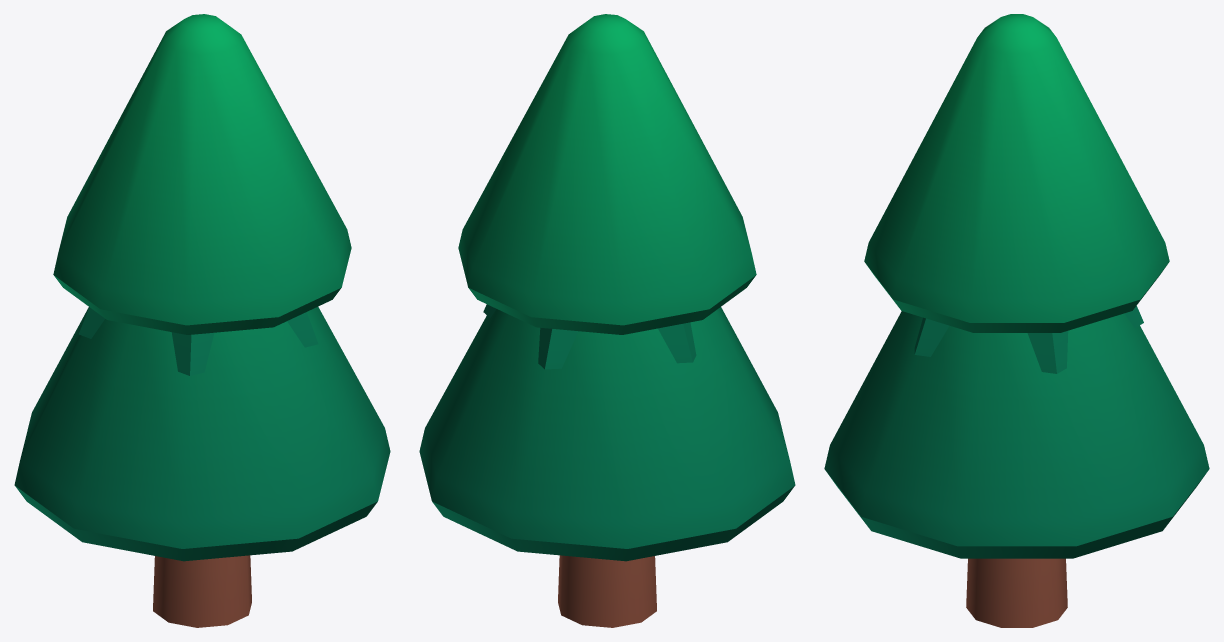
File: nature-aE6IPUeL.glb
3 renders of one model, left to right at view 1: azimuth 30°, elevation 25°; view 2: azimuth 150°, elevation 25°; view 3: azimuth 270°, elevation 25°, orthographic.
Visible parts, largest first — view 1: tree_single_B, tree_single_A; view 2: tree_single_B, tree_single_A; view 3: tree_single_B, tree_single_A.
Part boxes in pixels (<box>): tree_single_B: <box>14,14,390,627</box>; tree_single_A: <box>79,307,318,375</box>; tree_single_B: <box>419,14,795,627</box>; tree_single_A: <box>483,304,696,369</box>; tree_single_B: <box>824,14,1209,627</box>; tree_single_A: <box>914,306,1143,373</box>.
Bounding box in the file's own units: 0.6849 × 1.22 × 0.7201.
1 material, 1 textured.
